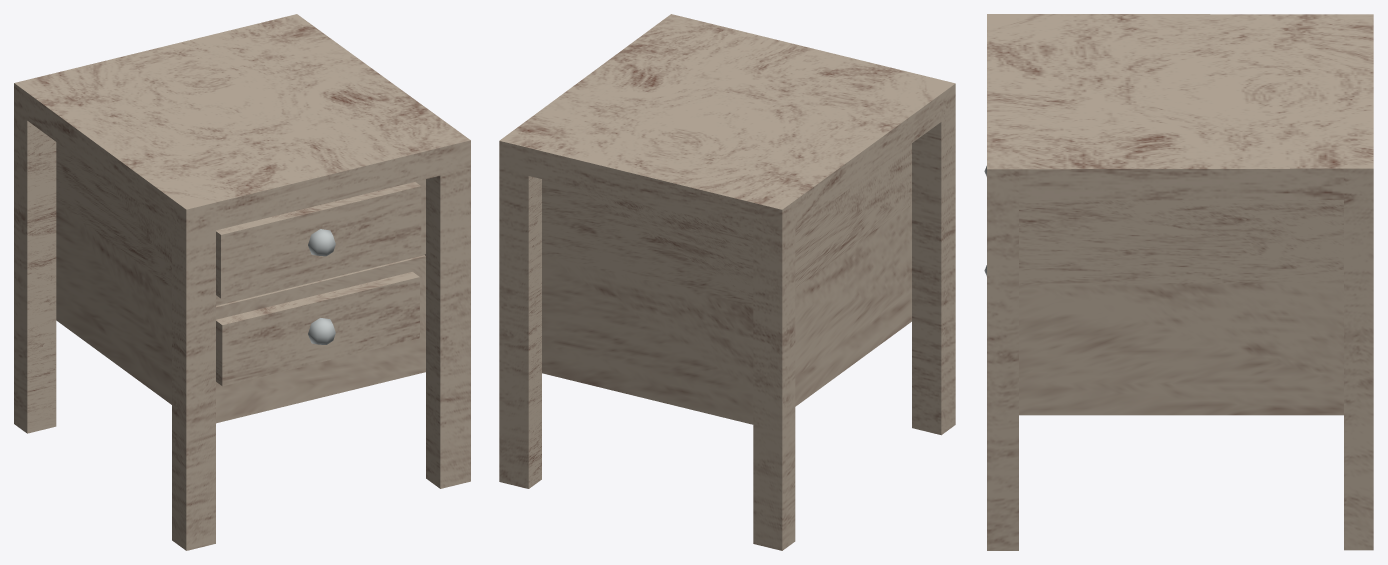
Rendered from Nochero.fbx.
3 views of the same model, side by side, from view 1: azimuth 30°, elevation 25°; view 2: azimuth 150°, elevation 25°; view 3: azimuth 270°, elevation 25° (orthographic). The views are drawn at different scales.
Visible parts, largest first — view 1: Mesa de Noche; view 2: Mesa de Noche; view 3: Mesa de Noche.
Boxes of the visible parts, box(x1,y1,x2,y2) form: Mesa de Noche: box(14, 14, 470, 550); Mesa de Noche: box(499, 14, 955, 550); Mesa de Noche: box(984, 14, 1373, 550).
Size of the model in its own units: 278 by 319 by 294.
